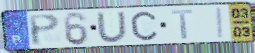6: (62, 11, 91, 47)
C: (129, 10, 160, 42)
I: (216, 6, 226, 40)
P: (26, 13, 62, 47)
T: (170, 8, 195, 41)
U: (95, 10, 130, 44)
